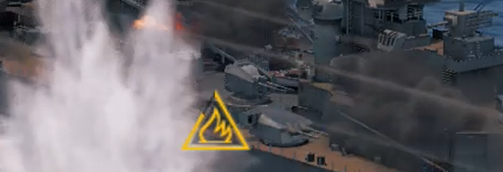1fire: (176, 118, 250, 155)
